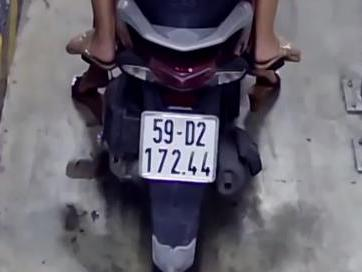num_plate: (138, 111, 217, 182)
